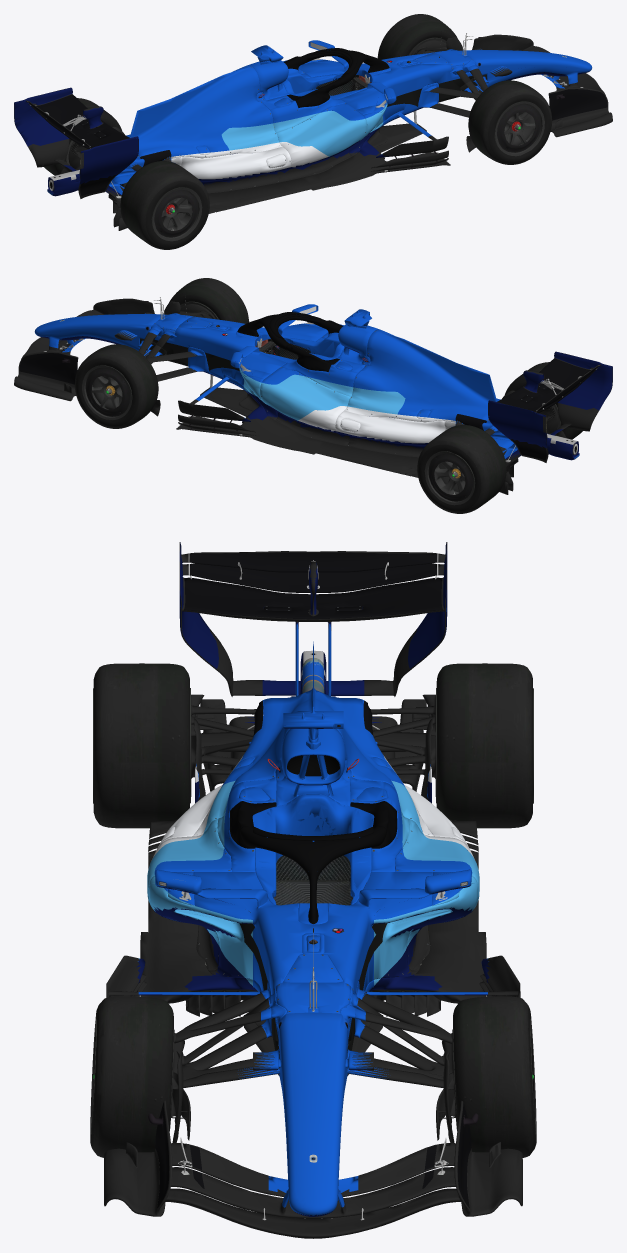
File: williams.glb
3 renders of one model, top to bottom at view 1: azimuth 30°, elevation 25°; view 2: azimuth 150°, elevation 25°; view 3: azimuth 270°, elevation 25°, orthographic. The views are drawn at different scales.
Parts seen in each view (by area): view 1: Object_12, Object_6, Object_18, Object_8, Object_15, Object_13, Object_17, Object_7, Object_22, Object_4; view 2: Object_12, Object_6, Object_18, Object_8, Object_15, Object_17, Object_13, Object_7, Object_22, Object_4; view 3: Object_12, Object_18, Object_6, Object_8, Object_13, Object_4, Object_7, Object_17, Object_22, Object_15.
Part boxes in pixels (left/top/right/bottom): Object_12: left=28, top=40, right=607, bottom=196; Object_6: left=14, top=46, right=488, bottom=227; Object_18: left=44, top=14, right=552, bottom=249; Object_8: left=25, top=34, right=612, bottom=230; Object_15: left=66, top=37, right=544, bottom=241; Object_13: left=284, top=48, right=389, bottom=107; Object_17: left=60, top=31, right=550, bottom=170; Object_7: left=27, top=31, right=583, bottom=230; Object_22: left=387, top=74, right=487, bottom=106; Object_4: left=302, top=73, right=371, bottom=122; Object_12: left=19, top=304, right=598, bottom=460; Object_6: left=138, top=310, right=612, bottom=491; Object_18: left=74, top=278, right=582, bottom=513; Object_8: left=14, top=298, right=601, bottom=494; Object_15: left=82, top=301, right=560, bottom=505; Object_17: left=76, top=295, right=481, bottom=511; Object_13: left=237, top=312, right=342, bottom=371; Object_7: left=43, top=295, right=599, bottom=494; Object_22: left=140, top=338, right=239, bottom=370; Object_4: left=255, top=338, right=319, bottom=383; Object_12: left=147, top=551, right=479, bottom=1214; Object_18: left=92, top=663, right=534, bottom=1157; Object_6: left=106, top=542, right=520, bottom=1088; Object_8: left=104, top=551, right=522, bottom=1238; Object_13: left=229, top=801, right=397, bottom=923; Object_4: left=205, top=755, right=430, bottom=1005; Object_7: left=131, top=553, right=495, bottom=1220; Object_17: left=90, top=674, right=536, bottom=1148; Object_22: left=239, top=923, right=387, bottom=1069; Object_15: left=90, top=688, right=536, bottom=1134.
Size of the model in its own units: 5.49 by 1.22 by 1.95.
Materials: 21 (12 with a texture image).
